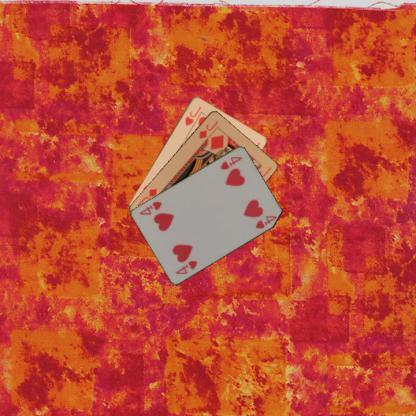4h: (173, 258, 199, 276), (218, 154, 243, 170)
Jd: (196, 118, 219, 140)
Jh: (182, 104, 203, 127)
